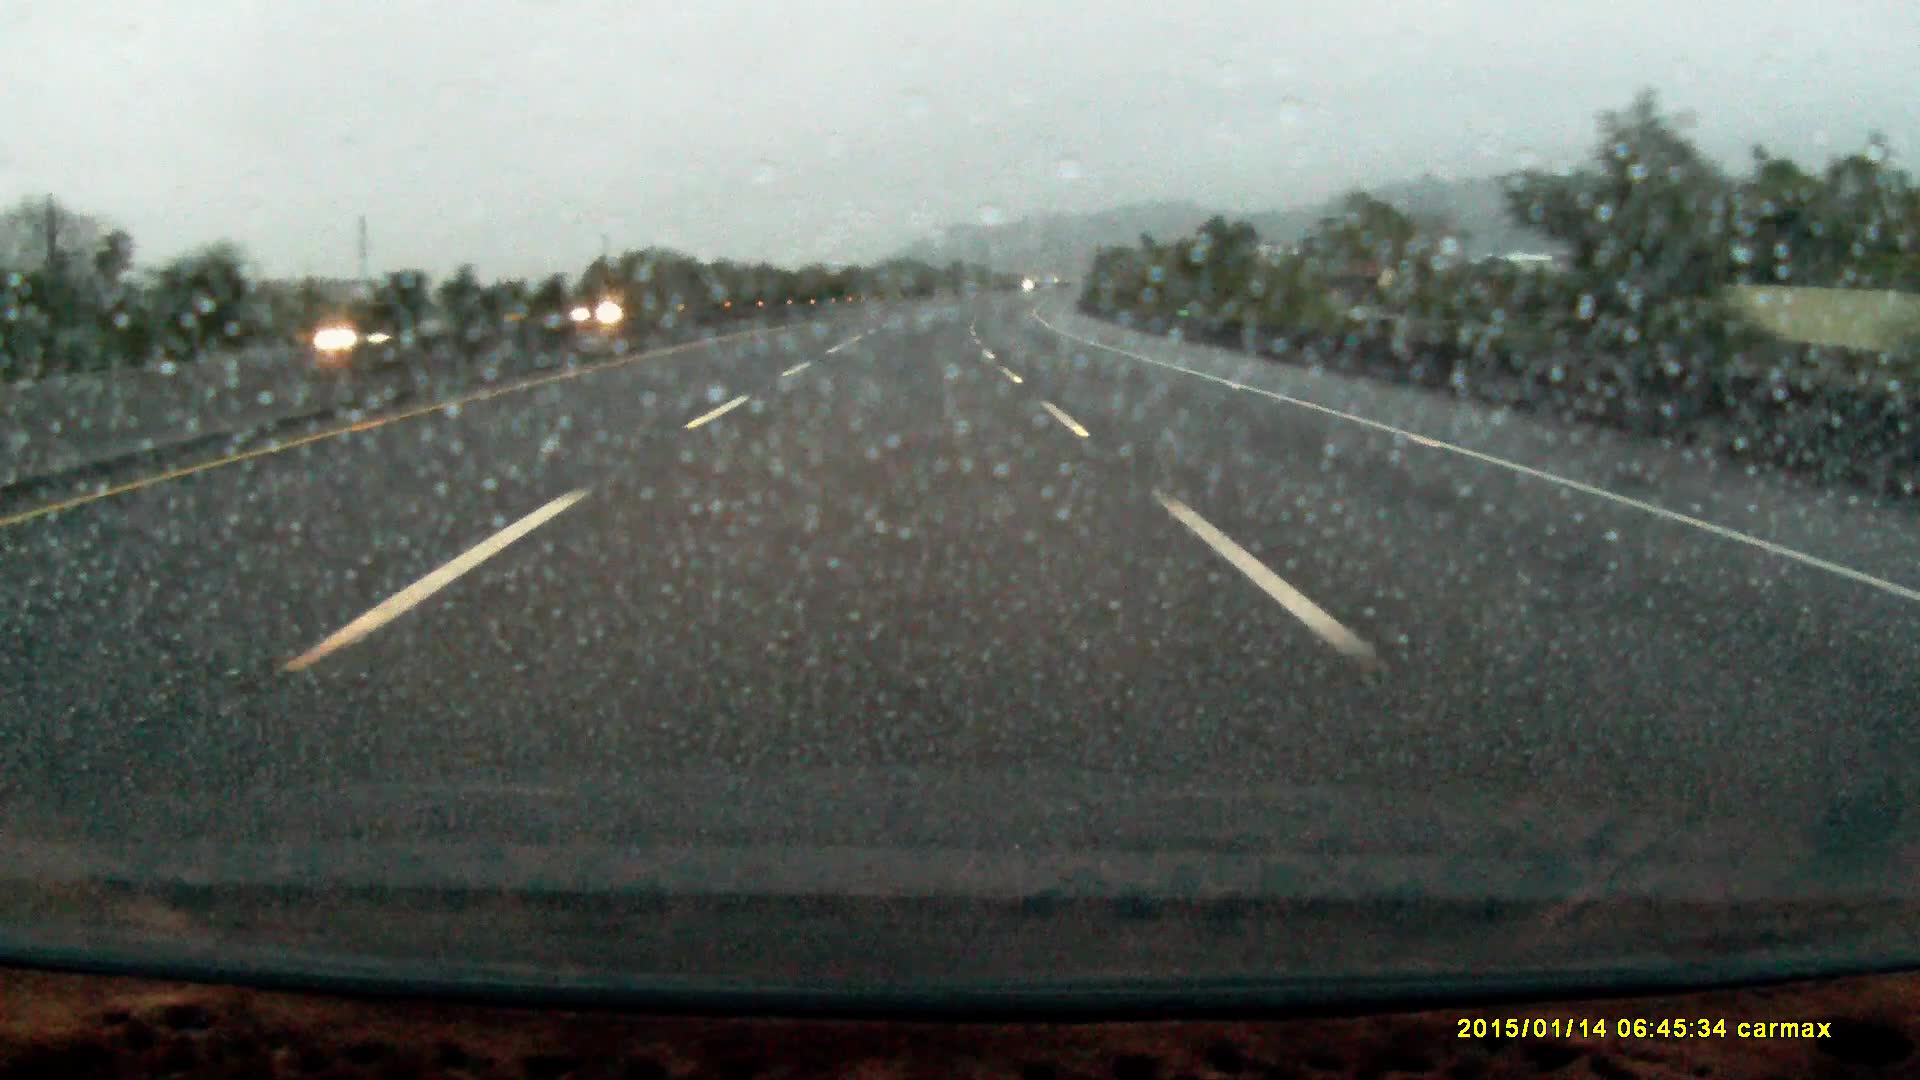vehicle: (309, 299, 483, 353), (568, 295, 647, 328)
